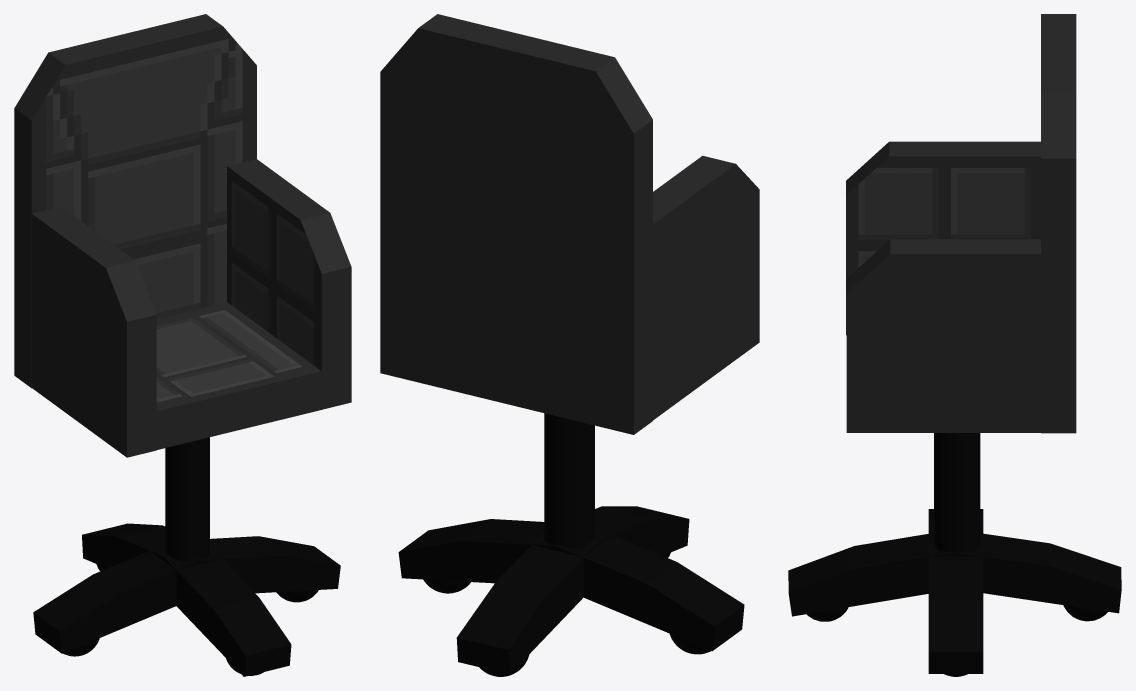
The model's file is Chair.fbx.
3 renders of one model, left to right at view 1: azimuth 30°, elevation 25°; view 2: azimuth 150°, elevation 25°; view 3: azimuth 270°, elevation 25°, orthographic. The views are drawn at different scales.
Visible parts, largest first — view 1: Cube, Cube.011, Cube.010, Cube.009, Cube.013, Cube.014, Cylinder; view 2: Cube, Cube.011, Cube.013, Cube.014, Cylinder; view 3: Cube.010, Cube.011, Cube.014, Cube, Cube.013, Cylinder.
Part boxes in pixels (x1,y1,x2,y2): Cube: (14, 14, 256, 388); Cube.011: (32, 206, 156, 457); Cube.010: (227, 159, 351, 409); Cube.009: (156, 302, 321, 449); Cube.013: (33, 536, 340, 653); Cube.014: (82, 523, 291, 676); Cylinder: (165, 437, 209, 561); Cube: (380, 14, 652, 434); Cube.011: (653, 155, 759, 420); Cube.013: (398, 519, 744, 651); Cube.014: (456, 506, 689, 674); Cylinder: (544, 413, 594, 548); Cube.010: (846, 239, 1040, 432); Cube.011: (846, 141, 1040, 335); Cube.014: (788, 533, 1121, 616); Cube: (1041, 14, 1076, 433); Cube.013: (928, 509, 983, 673); Cylinder: (934, 433, 980, 552).
Bounding box in the file's own units: 337 × 632 × 338.
